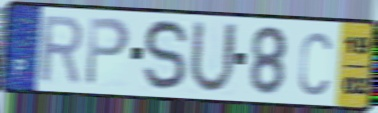8: (247, 23, 289, 98)
C: (297, 29, 334, 98)
P: (83, 15, 132, 89)
R: (39, 14, 85, 87)
S: (142, 17, 191, 94)
U: (186, 18, 240, 97)
